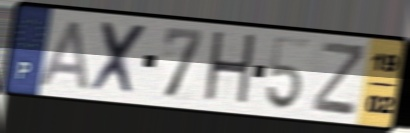5: (263, 33, 317, 114)
7: (161, 24, 207, 102)
A: (35, 17, 91, 93)
H: (200, 29, 259, 111)
X: (89, 19, 151, 99)
Z: (310, 39, 368, 120)
